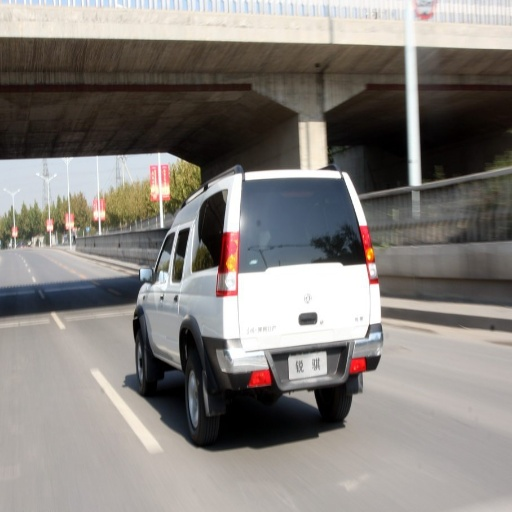back_bumper: (213, 336, 382, 389)
back_glass: (249, 183, 351, 259)
back_left_light: (215, 231, 239, 297)
trunk: (190, 252, 369, 351)
